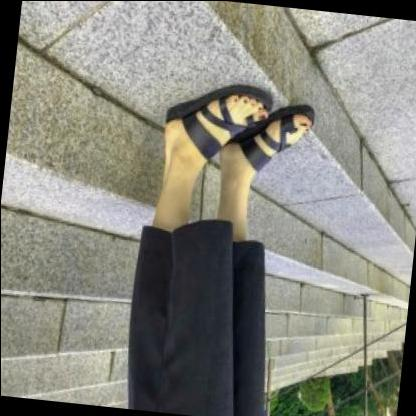no_safety-shoe: (147, 47, 278, 162), (217, 94, 314, 191)
